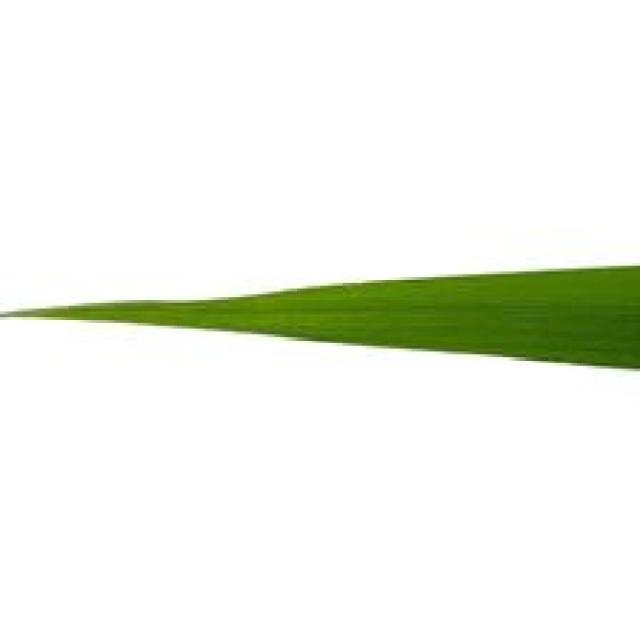Rice___Healthy_Rice_Plant: (0, 267, 637, 371)
